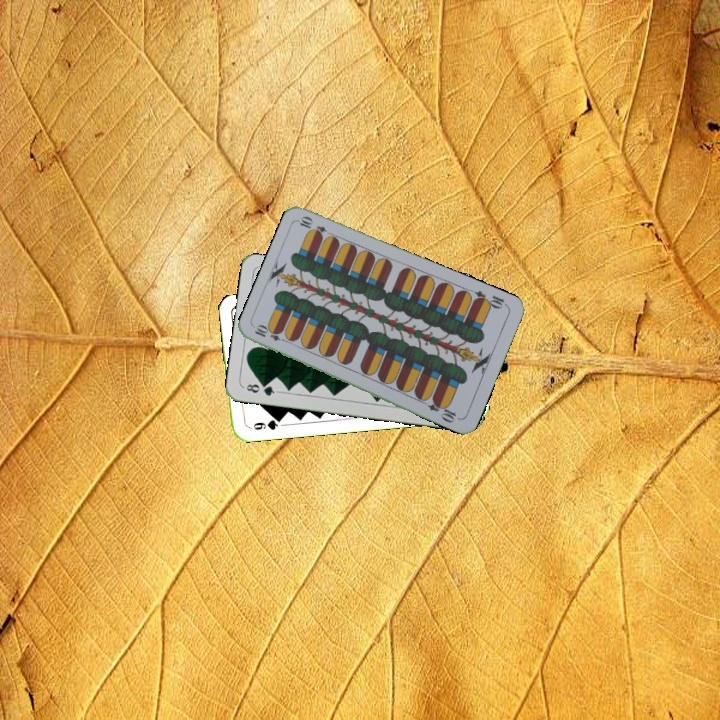E10: (470, 287, 510, 312), (251, 322, 291, 345)
G8: (240, 380, 281, 399)
G9: (244, 415, 284, 433)
